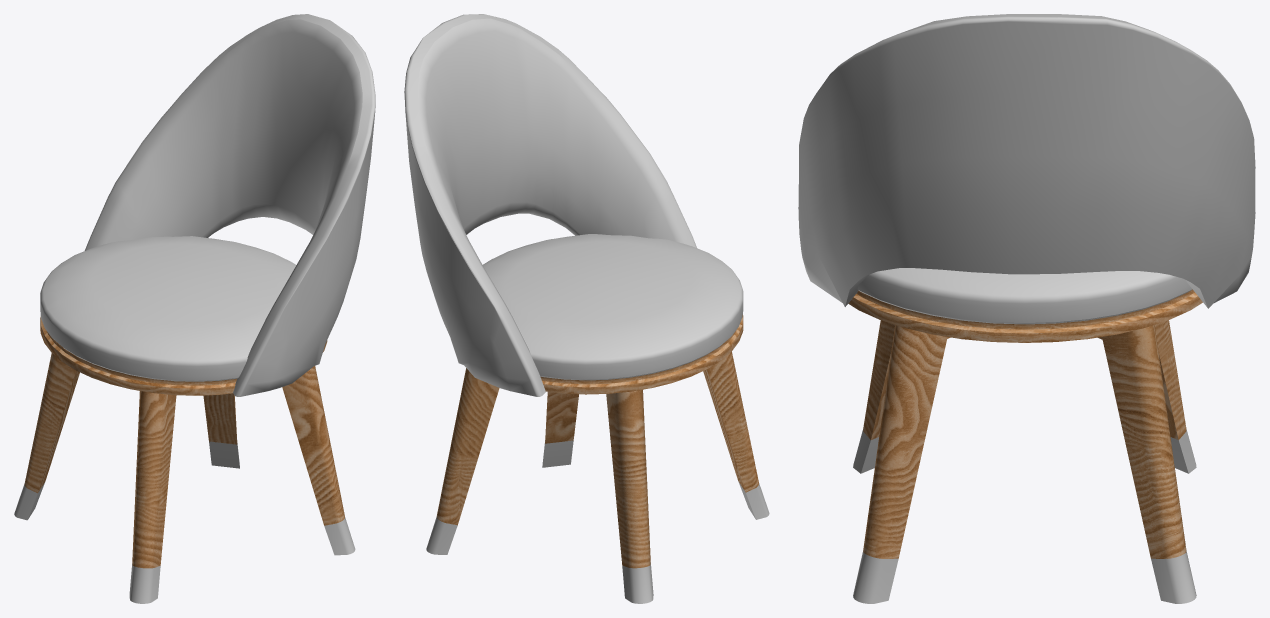
File: SM_ChairLeather2.fbx
The picture shows the model from 3 angles, left to right: view 1: azimuth 30°, elevation 25°; view 2: azimuth 150°, elevation 25°; view 3: azimuth 270°, elevation 25°; orthographic projection. The views are drawn at different scales.
Parts seen in each view (by area): view 1: SM_ChairLeather2_LOD0; view 2: SM_ChairLeather2_LOD0; view 3: SM_ChairLeather2_LOD0.
Part boxes in pixels (<box>): SM_ChairLeather2_LOD0: <box>14,14,375,603</box>; SM_ChairLeather2_LOD0: <box>404,14,769,603</box>; SM_ChairLeather2_LOD0: <box>798,14,1255,603</box>.
Bounding box in the file's own units: 68.72 × 71.57 × 107.
